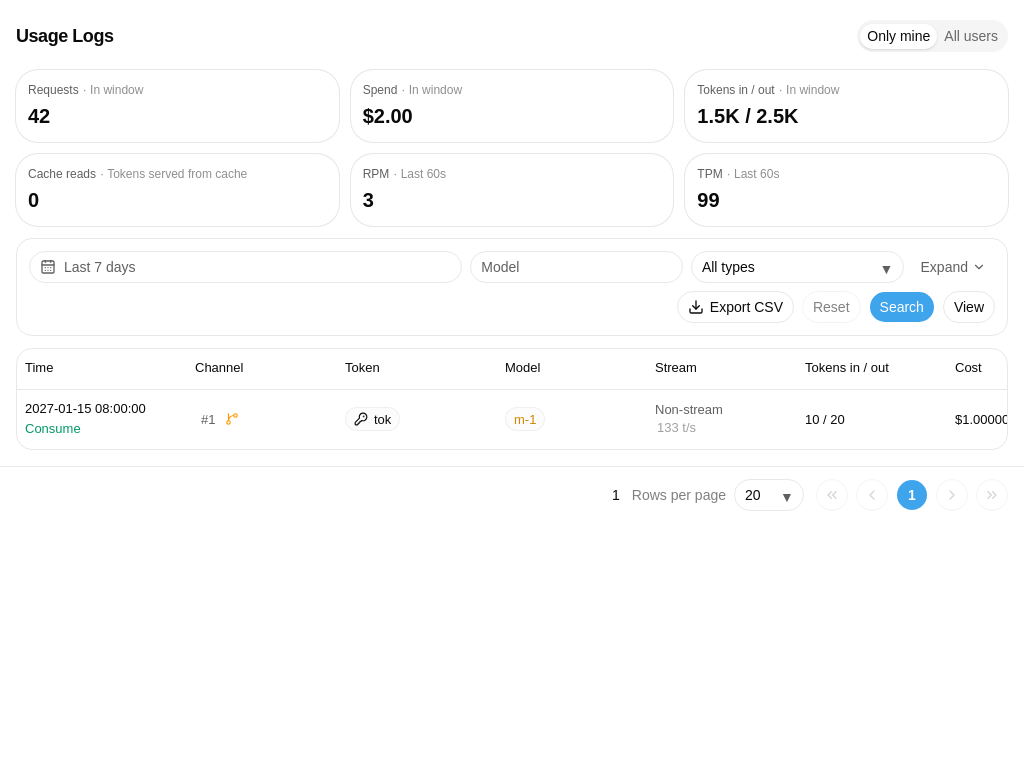
UsageLogsPage › opens the detail sheet with the routing trace for staff
Click the row with test id "log-row".
click(520, 419)  # box [17,389,1023,449]
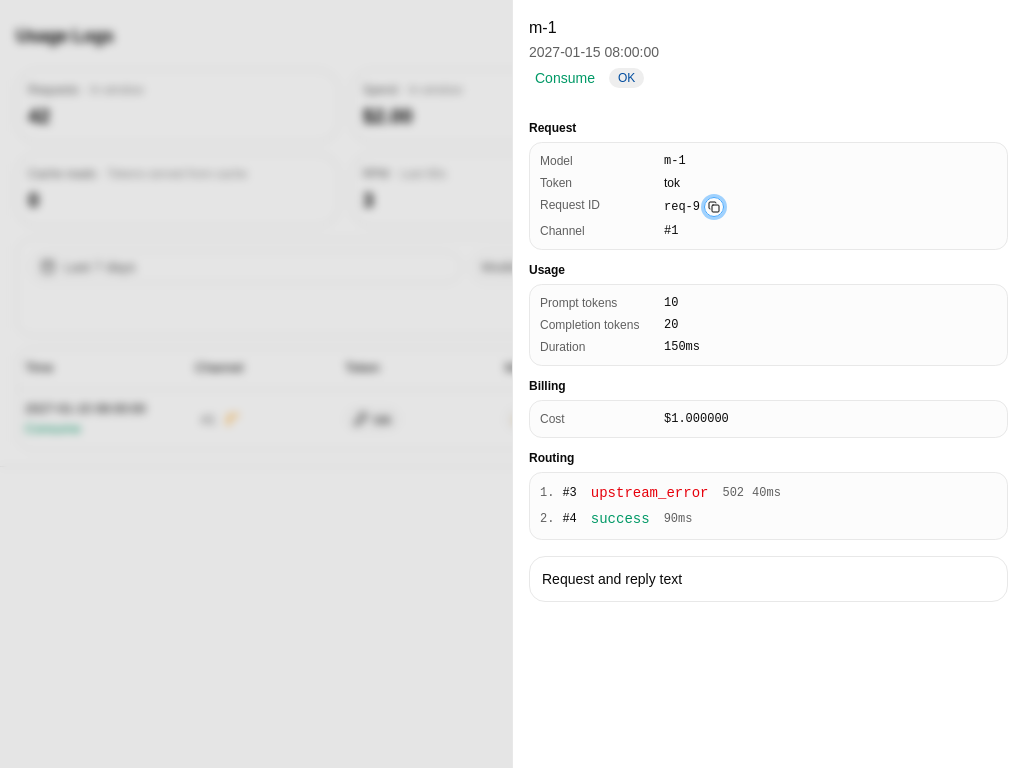
Check: the element with test id "route-attempt-0" shows "#3", box [540,484,781,500]
Check: the element with test id "route-attempt-1" shows "success", box [591,510,650,526]
Check: the element with test id "log-detail-request-id" shows "req-9", box [664,200,700,214]
